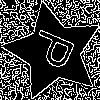P: (28, 26, 85, 76)
